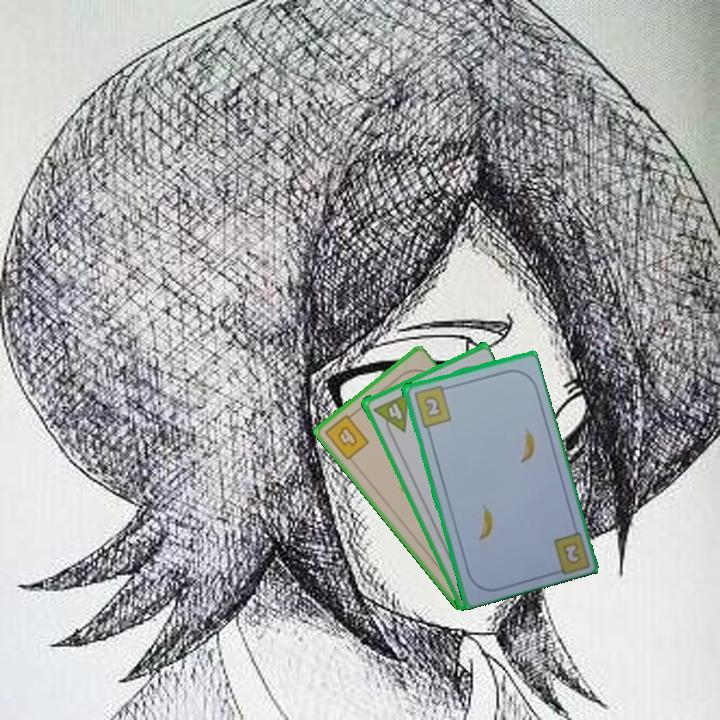2b: (410, 381, 454, 430), (561, 541, 581, 565)
4b: (321, 408, 372, 463)
4p: (369, 390, 411, 439)
